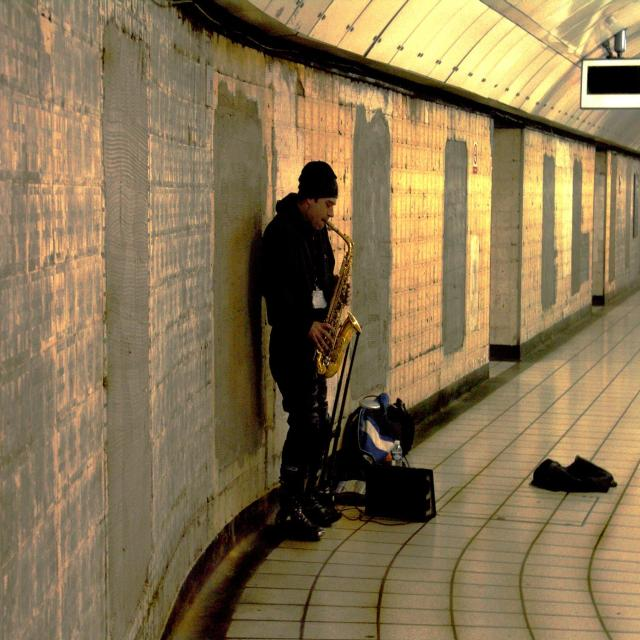saxophone: (311, 221, 363, 381)
